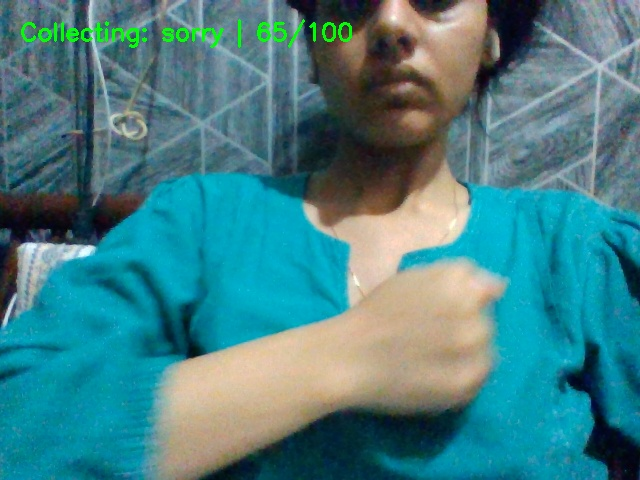sorry: (315, 247, 522, 450)
